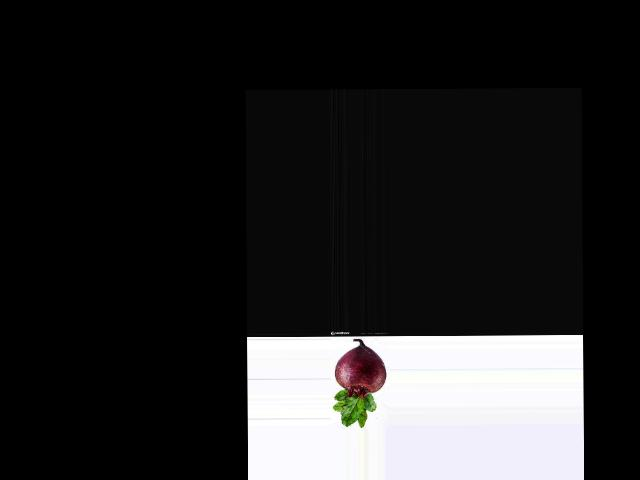beet: (332, 339, 387, 428)
